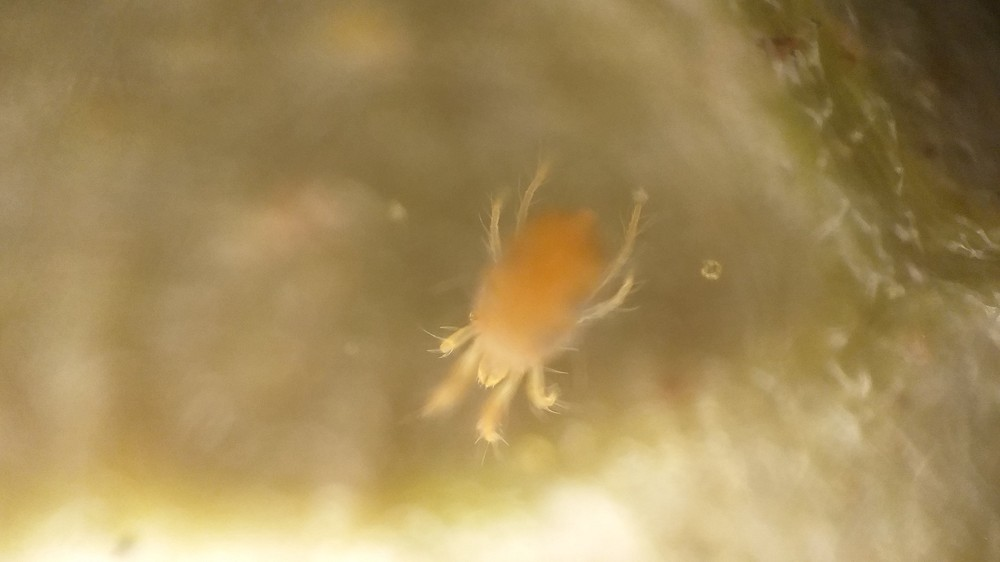Aracnido Rojo: (383, 141, 691, 462)
